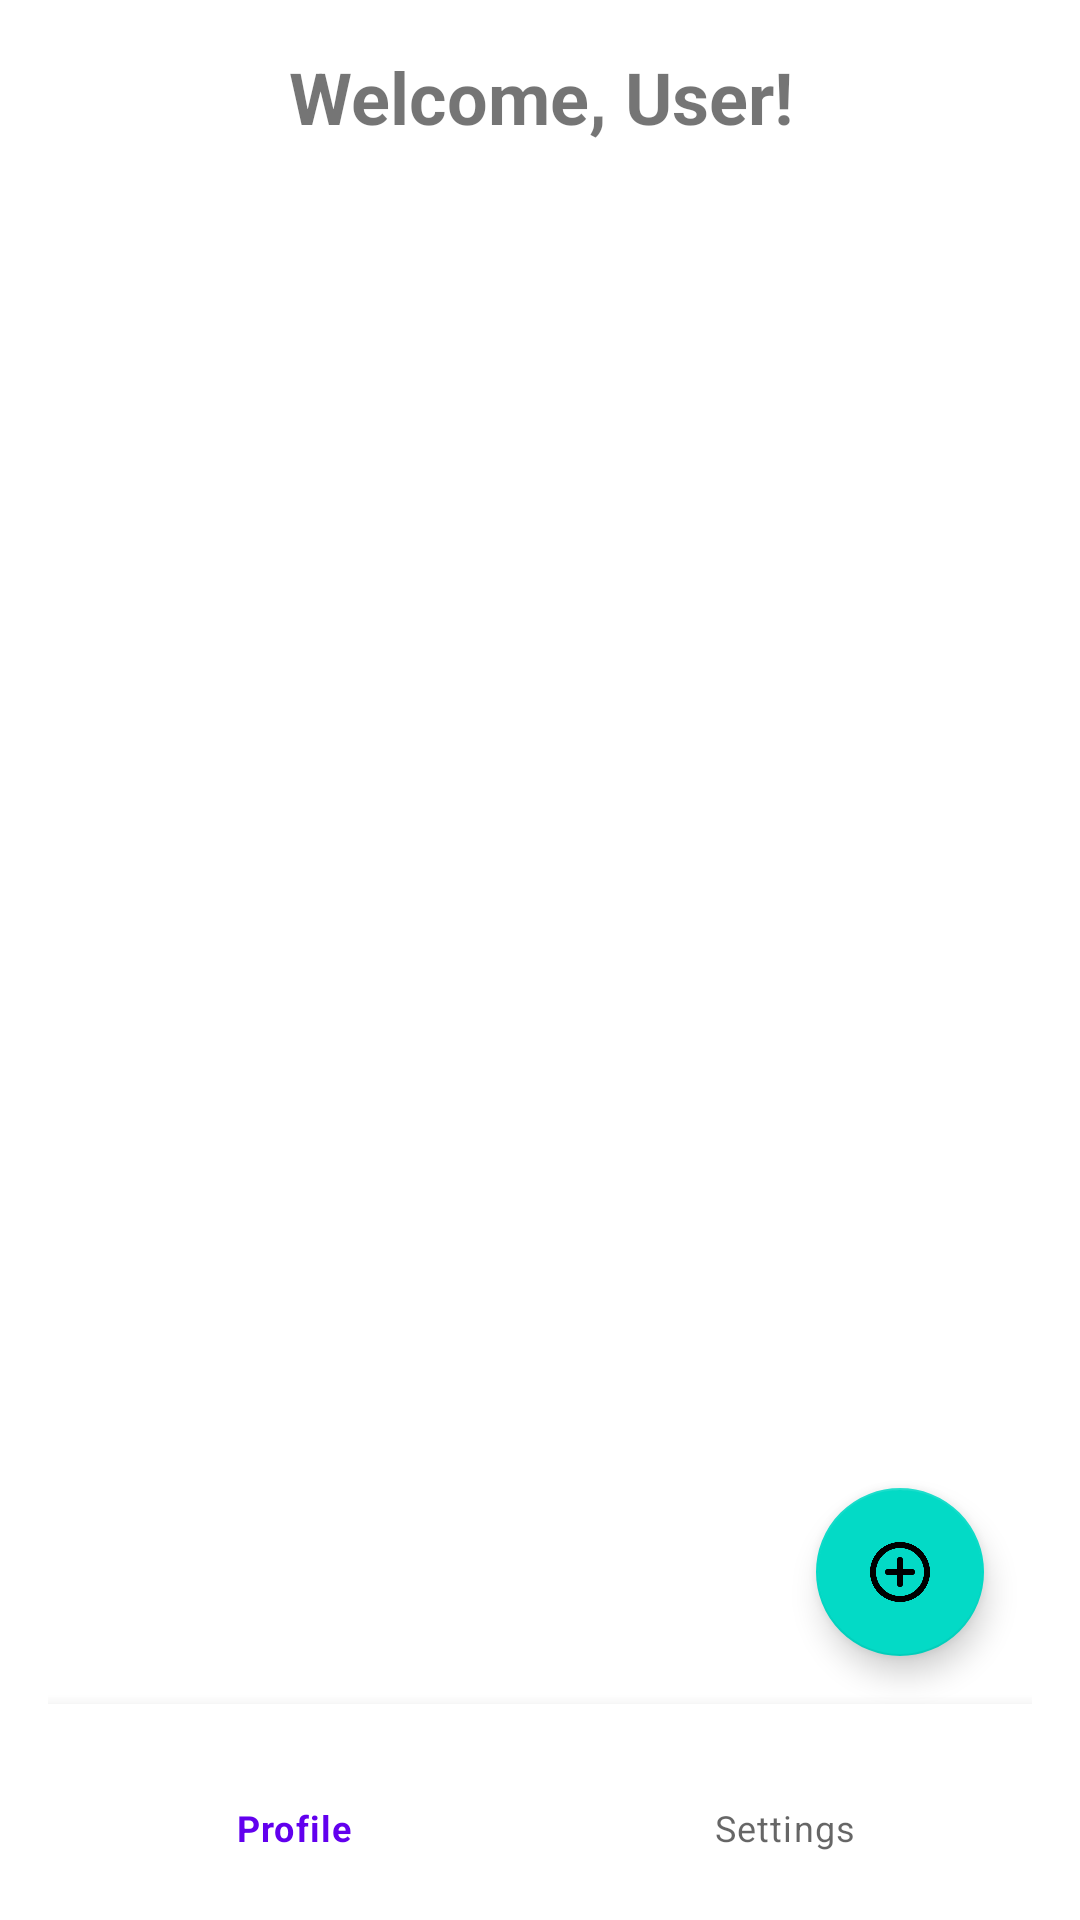

Locate icon controls on the screen. Image size 1080 x 1920, boxes as (x1,y1,x2,y2).
Add Task: (816,1488,984,1656)
